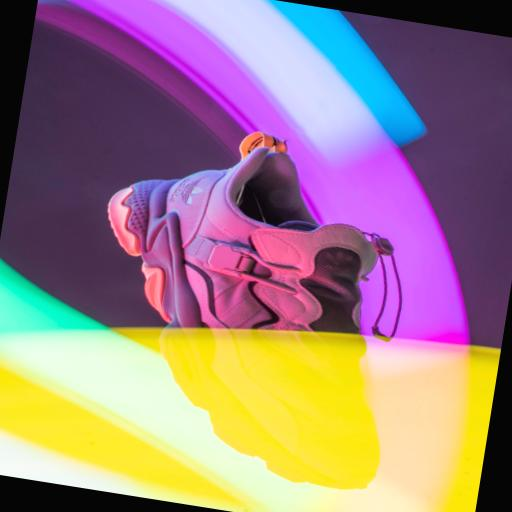shoe: (109, 133, 377, 333)
